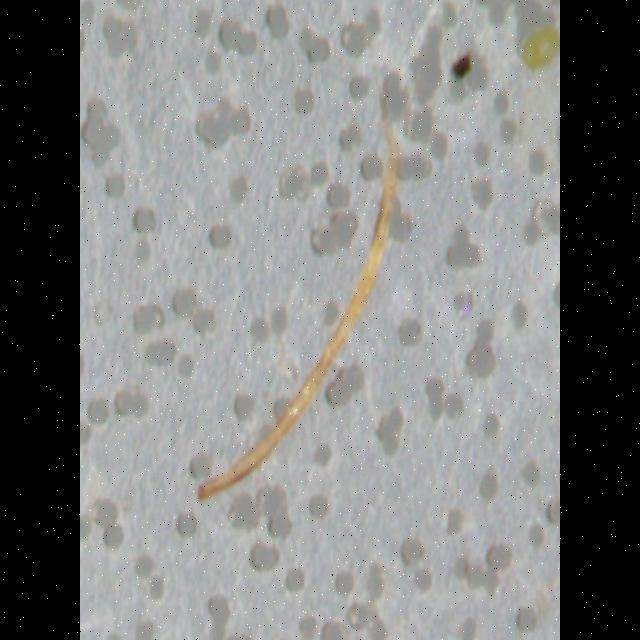Fibre: (195, 96, 402, 507)
